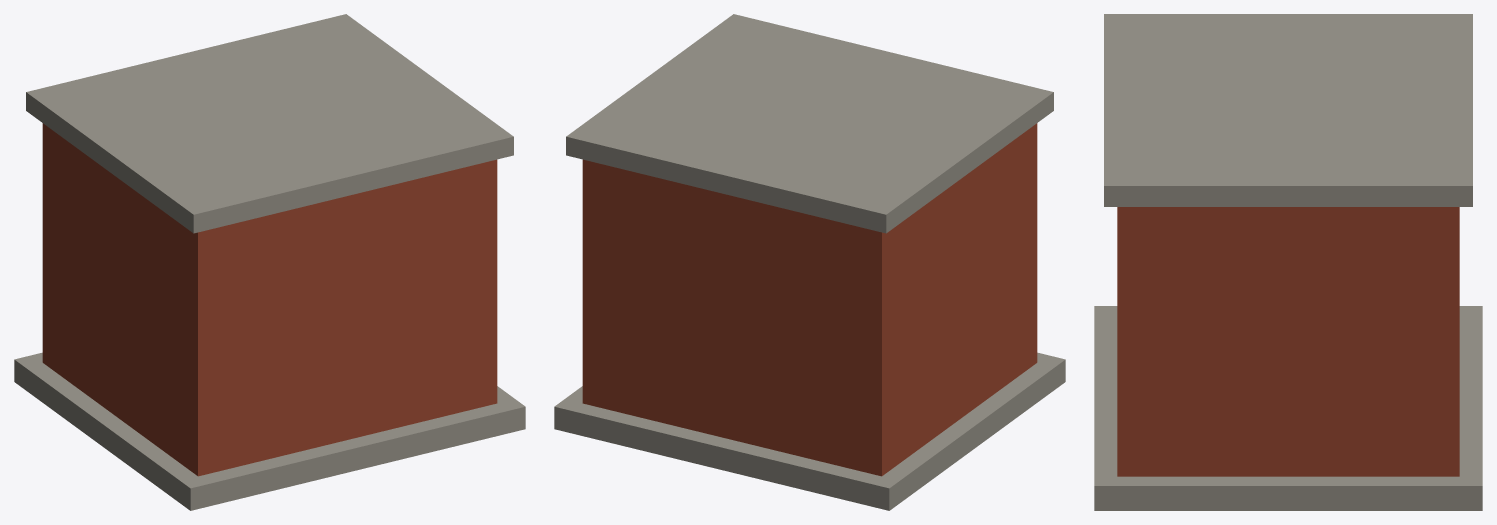
Rendered from bld_residential_a05_lod2.glb.
3 renders of one model, left to right at view 1: azimuth 30°, elevation 25°; view 2: azimuth 150°, elevation 25°; view 3: azimuth 270°, elevation 25°, orthographic. The views are drawn at different scales.
Parts seen in each view (by area): view 1: body; view 2: body; view 3: body.
Part boxes in pixels (box(x1,y1,x2,y2)): body: box(14, 14, 525, 510); body: box(554, 14, 1065, 510); body: box(1094, 14, 1482, 510).
Bounding box in the file's own units: 5.6 × 4.65 × 5.1.
